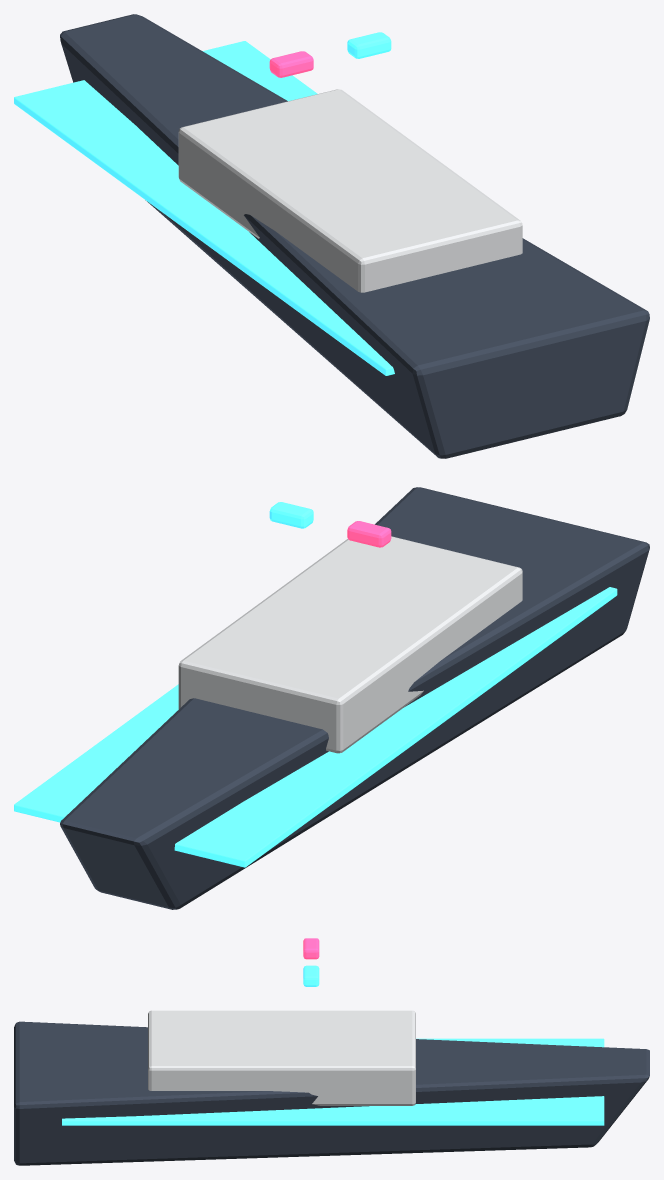
Rendered from police_interceptor.glb.
The picture shows the model from 3 angles, top to bottom: view 1: azimuth 30°, elevation 25°; view 2: azimuth 150°, elevation 25°; view 3: azimuth 270°, elevation 25°; orthographic projection. The views are drawn at different scales.
Parts seen in each view (by area): view 1: PoliceInterceptor, PoliceInterceptor_Deck, PoliceInterceptor_NeonTrim, SirenBarR, SirenBarL; view 2: PoliceInterceptor, PoliceInterceptor_Deck, PoliceInterceptor_NeonTrim, SirenBarL, SirenBarR; view 3: PoliceInterceptor, PoliceInterceptor_Deck, PoliceInterceptor_NeonTrim, SirenBarL, SirenBarR.
Boxes of the visible parts, x1=… form: PoliceInterceptor: x1=60, y1=14, x2=649, y2=458; PoliceInterceptor_Deck: x1=178, y1=89, x2=522, y2=292; PoliceInterceptor_NeonTrim: x1=14, y1=41, x2=394, y2=375; SirenBarR: x1=347, y1=32, x2=391, y2=58; SirenBarL: x1=269, y1=51, x2=313, y2=77; PoliceInterceptor: x1=60, y1=487, x2=649, y2=909; PoliceInterceptor_Deck: x1=178, y1=536, x2=522, y2=753; PoliceInterceptor_NeonTrim: x1=14, y1=587, x2=617, y2=867; SirenBarL: x1=347, y1=521, x2=391, y2=547; SirenBarR: x1=269, y1=502, x2=313, y2=528; PoliceInterceptor: x1=14, y1=1021, x2=649, y2=1165; PoliceInterceptor_Deck: x1=148, y1=1010, x2=415, y2=1105; PoliceInterceptor_NeonTrim: x1=62, y1=1038, x2=604, y2=1125; SirenBarL: x1=303, y1=938, x2=319, y2=959; SirenBarR: x1=303, y1=965, x2=319, y2=986.
Bounding box in the file's own units: 2.74 × 2.7 × 8.77.
